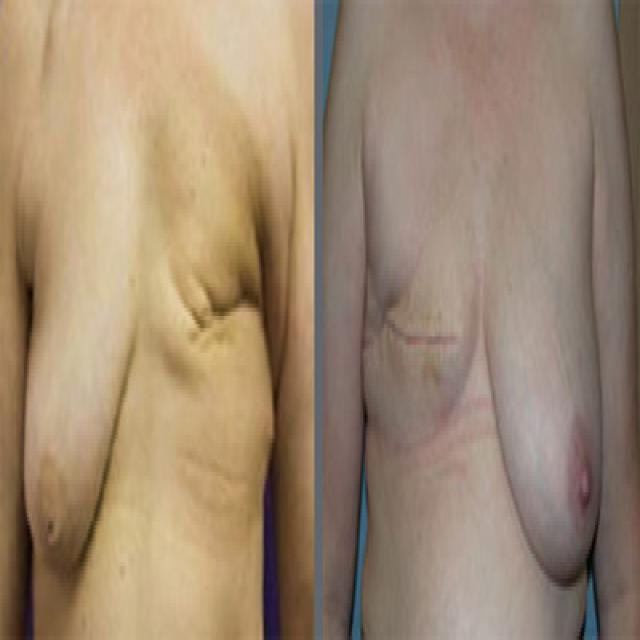Seno herido: (151, 169, 279, 489), (358, 190, 480, 486)
Seno ileso: (482, 137, 607, 620), (19, 239, 143, 606)
